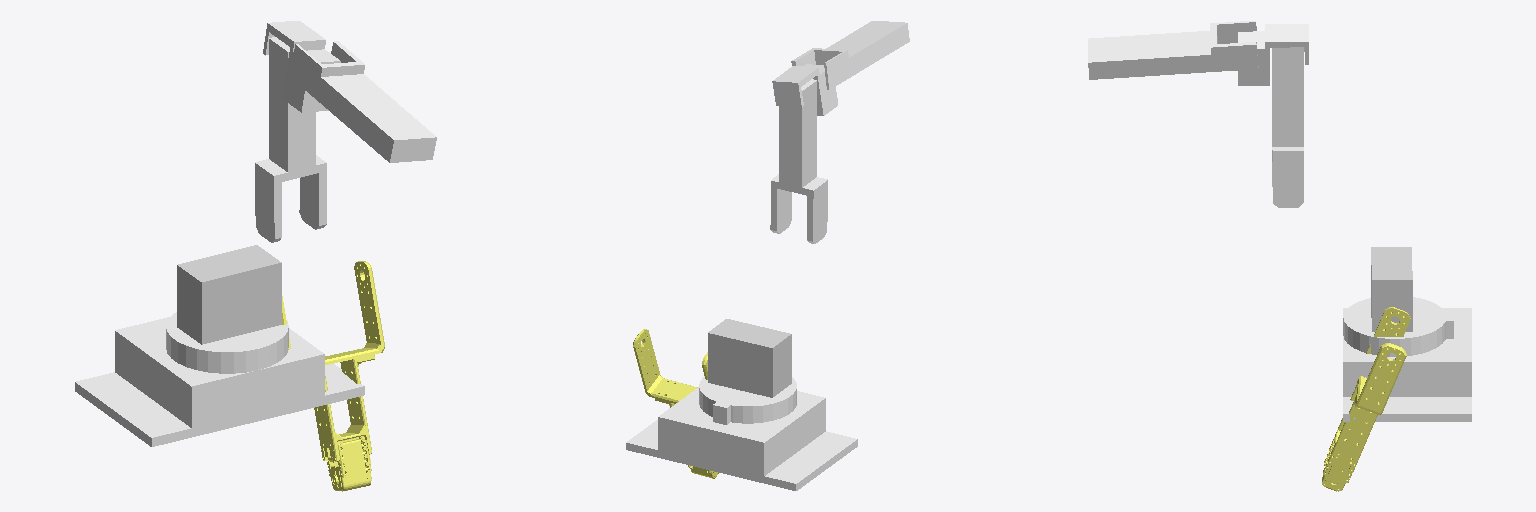
robot.urdf — Robot Assembly.SLDASM:
<?xml version="1.0" encoding="utf-8"?>
<!-- This URDF was automatically created by SolidWorks to URDF Exporter! Originally created by [author] ([email redacted]) 
     Commit Version: 1.6.0-4-g7f85cfe  Build Version: 1.6.7995.38578
     For more information, please see http://wiki.ros.org/sw_urdf_exporter -->
<robot
  name="Robot Assembly.SLDASM">
  <link
    name="base_link">
    <inertial>
      <origin
        xyz="1.8682E-10 0.009705 0.024833"
        rpy="0 0 0" />
      <mass
        value="0.70117" />
      <inertia
        ixx="0.0014339"
        ixy="-4.486E-11"
        ixz="-5.7926E-11"
        iyy="0.0011174"
        iyz="2.2742E-05"
        izz="0.002074" />
    </inertial>
    <visual>
      <origin
        xyz="0 0 0"
        rpy="0 0 0" />
      <geometry>
        <mesh
          filename="package://Robot Assembly.SLDASM/meshes/base_link.STL" />
      </geometry>
      <material
        name="">
        <color
          rgba="1 1 1 1" />
      </material>
    </visual>
    <collision>
      <origin
        xyz="0 0 0"
        rpy="0 0 0" />
      <geometry>
        <mesh
          filename="package://Robot Assembly.SLDASM/meshes/base_link.STL" />
      </geometry>
    </collision>
  </link>
  <link
    name="Link1">
    <inertial>
      <origin
        xyz="-4.1458E-11 1.3953E-08 0.048592"
        rpy="0 0 0" />
      <mass
        value="0.25963" />
      <inertia
        ixx="0.00012884"
        ixy="-7.389E-08"
        ixz="-7.0214E-12"
        iyy="0.00013537"
        iyz="-1.3274E-11"
        izz="0.00012613" />
    </inertial>
    <visual>
      <origin
        xyz="0 0 0"
        rpy="0 0 0" />
      <geometry>
        <mesh
          filename="package://Robot Assembly.SLDASM/meshes/Link1.STL" />
      </geometry>
      <material
        name="">
        <color
          rgba="0.89412 0.89412 0.89412 1" />
      </material>
    </visual>
    <collision>
      <origin
        xyz="0 0 0"
        rpy="0 0 0" />
      <geometry>
        <mesh
          filename="package://Robot Assembly.SLDASM/meshes/Link1.STL" />
      </geometry>
    </collision>
  </link>
  <joint
    name="Motor1_joint"
    type="revolute">
    <origin
      xyz="0 0 0.0507"
      rpy="0 0 0" />
    <parent
      link="base_link" />
    <child
      link="Link1" />
    <axis
      xyz="0 0 1" />
    <limit
      lower="-1.0472"
      upper="0.6981"
      effort="1.5"
      velocity="6.18" />
  </joint>
  <link
    name="Link2_L">
    <inertial>
      <origin
        xyz="-0.051943 -0.075549 0.087076"
        rpy="0 0 0" />
      <mass
        value="0.11526" />
      <inertia
        ixx="7.5846E-05"
        ixy="-5.683E-07"
        ixz="-4.4672E-07"
        iyy="0.00013596"
        iyz="2.9075E-05"
        izz="0.00012721" />
    </inertial>
    <visual>
      <origin
        xyz="0 0 0"
        rpy="0 0 0" />
      <geometry>
        <mesh
          filename="package://Robot Assembly.SLDASM/meshes/Link2_L.STL" />
      </geometry>
      <material
        name="">
        <color
          rgba="1 1 0.50196 1" />
      </material>
    </visual>
    <collision>
      <origin
        xyz="0 0 0"
        rpy="0 0 0" />
      <geometry>
        <mesh
          filename="package://Robot Assembly.SLDASM/meshes/Link2_L.STL" />
      </geometry>
    </collision>
  </link>
  <joint
    name="Motor2_L"
    type="revolute">
    <origin
      xyz="0.052457 0.00059405 0.0483"
      rpy="0 0 0" />
    <parent
      link="Link1" />
    <child
      link="Link2_L" />
    <axis
      xyz="0.99994 0.011324 0" />
    <limit
      lower="0"
      upper="6.283"
      effort="6"
      velocity="6.6" />
  </joint>
  <link
    name="Link4">
    <inertial>
      <origin
        xyz="0.021156 -6.0826E-05 0.10428"
        rpy="0 0 0" />
      <mass
        value="0.10865" />
      <inertia
        ixx="6.7094E-05"
        ixy="-4.18E-07"
        ixz="-6.4328E-07"
        iyy="7.5511E-05"
        iyz="2.2666E-07"
        izz="3.8222E-05" />
    </inertial>
    <visual>
      <origin
        xyz="0 0 0"
        rpy="0 0 0" />
      <geometry>
        <mesh
          filename="package://Robot Assembly.SLDASM/meshes/Link4.STL" />
      </geometry>
      <material
        name="">
        <color
          rgba="1 1 1 1" />
      </material>
    </visual>
    <collision>
      <origin
        xyz="0 0 0"
        rpy="0 0 0" />
      <geometry>
        <mesh
          filename="package://Robot Assembly.SLDASM/meshes/Link4.STL" />
      </geometry>
    </collision>
  </link>
  <joint
    name="Motor4_elb"
    type="revolute">
    <origin
      xyz="-0.072748 -0.12514 0.1444"
      rpy="0 0 0" />
    <parent
      link="Link2_L" />
    <child
      link="Link4" />
    <axis
      xyz="-0.99994 -0.011324 0" />
    <limit
      lower="-2.4435"
      upper="1.0472"
      effort="1.5"
      velocity="6.18" />
  </joint>
  <link
    name="Link5">
    <inertial>
      <origin
        xyz="-0.0013002 -0.013978 -0.01034"
        rpy="0 0 0" />
      <mass
        value="0.052656" />
      <inertia
        ixx="1.6759E-05"
        ixy="-2.819E-07"
        ixz="-7.7036E-07"
        iyy="1.5947E-05"
        iyz="-1.7053E-06"
        izz="1.1111E-05" />
    </inertial>
    <visual>
      <origin
        xyz="0 0 0"
        rpy="0 0 0" />
      <geometry>
        <mesh
          filename="package://Robot Assembly.SLDASM/meshes/Link5.STL" />
      </geometry>
      <material
        name="">
        <color
          rgba="1 1 1 1" />
      </material>
    </visual>
    <collision>
      <origin
        xyz="0 0 0"
        rpy="0 0 0" />
      <geometry>
        <mesh
          filename="package://Robot Assembly.SLDASM/meshes/Link5.STL" />
      </geometry>
    </collision>
  </link>
  <joint
    name="Motor5_wr"
    type="revolute">
    <origin
      xyz="0.02195 -0.021925 0.17994"
      rpy="0 0 0" />
    <parent
      link="Link4" />
    <child
      link="Link5" />
    <axis
      xyz="0.011324 -0.99993 -0.0028474" />
    <limit
      lower="-1.3963"
      upper="1.3963"
      effort="1.5"
      velocity="6.18" />
  </joint>
  <link
    name="Link6">
    <inertial>
      <origin
        xyz="-0.020588 -0.086108 -0.0028114"
        rpy="0 0 0" />
      <mass
        value="0.05213" />
      <inertia
        ixx="3.8229E-05"
        ixy="-7.0856E-07"
        ixz="9.8884E-07"
        iyy="8.518E-06"
        iyz="-2.4648E-06"
        izz="4.404E-05" />
    </inertial>
    <visual>
      <origin
        xyz="0 0 0"
        rpy="0 0 0" />
      <geometry>
        <mesh
          filename="package://Robot Assembly.SLDASM/meshes/Link6.STL" />
      </geometry>
      <material
        name="">
        <color
          rgba="1 1 1 1" />
      </material>
    </visual>
    <collision>
      <origin
        xyz="0 0 0"
        rpy="0 0 0" />
      <geometry>
        <mesh
          filename="package://Robot Assembly.SLDASM/meshes/Link6.STL" />
      </geometry>
    </collision>
  </link>
  <joint
    name="Joint_EE"
    type="revolute">
    <origin
      xyz="0.021626 -0.020046 -0.00367"
      rpy="0 0 0" />
    <parent
      link="Link5" />
    <child
      link="Link6" />
    <axis
      xyz="0.98598 0.01164 -0.16646" />
    <limit
      lower="-0.6981"
      upper="2.0944"
      effort="1.5"
      velocity="6.18" />
  </joint>
  <link
    name="Pen_tip">
    <inertial>
      <origin
        xyz="-0.0015437 0.24747 -0.28672"
        rpy="0 0 0" />
      <mass
        value="5.5098" />
      <inertia
        ixx="0.21583"
        ixy="0.00015166"
        ixz="-0.00045441"
        iyy="0.10918"
        iyz="0.049251"
        izz="0.15359" />
    </inertial>
    <visual>
      <origin
        xyz="0 0 0"
        rpy="0 0 0" />
      <geometry>
        <mesh
          filename="package://Robot Assembly.SLDASM/meshes/Pen_tip.STL" />
      </geometry>
      <material
        name="">
        <color
          rgba="1 1 1 1" />
      </material>
    </visual>
    <collision>
      <origin
        xyz="0 0 0"
        rpy="0 0 0" />
      <geometry>
        <mesh
          filename="package://Robot Assembly.SLDASM/meshes/Pen_tip.STL" />
      </geometry>
    </collision>
  </link>
  <joint
    name="Pen_tip"
    type="fixed">
    <origin
      xyz="-0.021396 -0.18979 -0.0096416"
      rpy="0 0 0" />
    <parent
      link="Link6" />
    <child
      link="Pen_tip" />
    <axis
      xyz="0 0 0" />
  </joint>
  <link
    name="Link3_R">
    <inertial>
      <origin
        xyz="0.052802 -0.10824 0.024307"
        rpy="0 0 0" />
      <mass
        value="5.5098" />
      <inertia
        ixx="0.21583"
        ixy="0.00015166"
        ixz="-0.00045441"
        iyy="0.10918"
        iyz="0.049251"
        izz="0.15359" />
    </inertial>
    <visual>
      <origin
        xyz="0 0 0"
        rpy="0 0 0" />
      <geometry>
        <mesh
          filename="package://Robot Assembly.SLDASM/meshes/Link3_R.STL" />
      </geometry>
      <material
        name="">
        <color
          rgba="1 1 1 1" />
      </material>
    </visual>
    <collision>
      <origin
        xyz="0 0 0"
        rpy="0 0 0" />
      <geometry>
        <mesh
          filename="package://Robot Assembly.SLDASM/meshes/Link3_R.STL" />
      </geometry>
    </collision>
  </link>
  <joint
    name="Motor3_R"
    type="revolute">
    <origin
      xyz="-0.052457 -0.00059406 0.0483"
      rpy="0 0 0" />
    <parent
      link="Link1" />
    <child
      link="Link3_R" />
    <axis
      xyz="-0.99994 -0.011324 0" />
    <limit
      lower="-1.0472"
      upper="1.0472"
      effort="6"
      velocity="6.6" />
    <mimic
      joint="Motor2_L"
      multiplier="-1"
      offset="0" />
  </joint>
</robot>

--- Facts derived from the render (not from the file) ---
Views: 3 orthographic renders of the robot side by side, from view 1: azimuth 30°, elevation 25°; view 2: azimuth 150°, elevation 25°; view 3: azimuth 270°, elevation 25°.
Model Robot Assembly.SLDASM with 8 links and 7 joints (6 revolute, 1 fixed), rooted at base_link, posed all joints at 0.
Visible links, largest first — view 1: base_link, Link1, Link6, Link4, Link2_L, Link5; view 2: base_link, Link4, Link1, Link6, Link2_L, Link5; view 3: base_link, Link6, Link2_L, Link4, Link1, Link5.
Link boxes in pixels (x1,y1,x2,y2): base_link: [75, 312, 364, 446]; Link1: [177, 245, 281, 344]; Link6: [289, 41, 436, 162]; Link4: [255, 37, 326, 242]; Link2_L: [282, 261, 384, 491]; Link5: [263, 21, 340, 112]; base_link: [626, 376, 857, 490]; Link4: [770, 79, 827, 243]; Link1: [708, 319, 791, 397]; Link6: [791, 21, 909, 89]; Link2_L: [633, 329, 718, 478]; Link5: [772, 64, 837, 115]; base_link: [1343, 297, 1471, 421]; Link6: [1088, 21, 1258, 79]; Link2_L: [1322, 307, 1410, 491]; Link4: [1272, 47, 1303, 207]; Link1: [1371, 247, 1412, 331]; Link5: [1238, 24, 1308, 85].
Bounding box of the posed robot: 0.2758 × 0.4475 × 0.5435 m (x, y, z).
6 mesh visuals loaded from 8 distinct referenced files (6 binary STL); not drawn: 1 (reference not matched to a file when rendering), 1 (file found but could not be loaded).